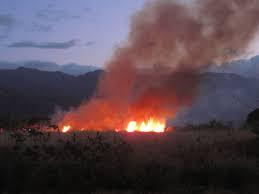fire: (118, 115, 172, 134), (61, 123, 73, 133)
yanwu: (48, 0, 258, 127)
